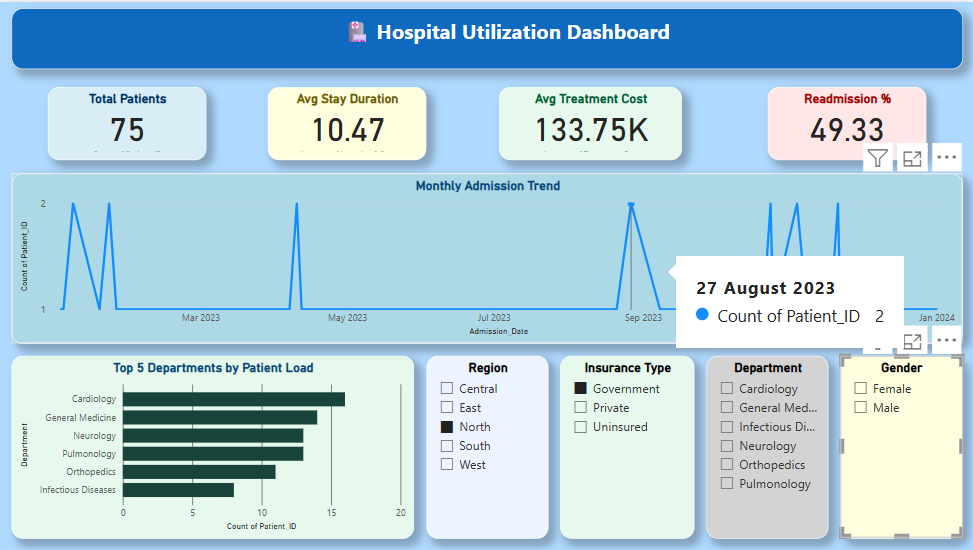

The page's visual inventory and layout, read from the dashboard file:
{"tool":"powerbi","page":{"name":"Page 1","canvas":[1280,720],"ordinal":0},"visuals":[{"type":"textbox","box":[16,8,1248,80],"z":0},{"type":"card","title":"Total Patients ","fields":{"Values":["CountNonNull(Sheet1.Patient_ID)"]},"box":[64,112,208,96],"z":1000},{"type":"card","title":"Readmission %","fields":{"Values":["Sheet1.Readmission_Rate"]},"box":[1008,112,208,96],"z":2000},{"type":"card","title":"Avg Stay Duration","fields":{"Values":["Avg(Sheet1.Length_of_Stay)"]},"box":[352,112,208,96],"z":3000},{"type":"clusteredBarChart","title":"Top 5 Departments by Patient Load","fields":{"Category":["Sheet1.Department"],"Y":["CountNonNull(Sheet1.Patient_ID)"]},"box":[16,464,528,240],"z":4000},{"type":"lineChart","title":"Monthly Admission Trend","fields":{"Category":["Sheet1.Admission_Date"],"Y":["CountNonNull(Sheet1.Patient_ID)"]},"box":[16,224,1248,224],"z":5000},{"type":"slicer","title":"Gender","fields":{"Values":["Sheet1.Gender"]},"box":[1104,464,160,240],"z":7000},{"type":"slicer","title":"Region","fields":{"Values":["Sheet1.Region"]},"box":[560,464,160,240],"z":8000},{"type":"slicer","title":"Department","fields":{"Values":["Sheet1.Department"]},"box":[928,464,160,240],"z":9000},{"type":"slicer","title":"Insurance Type","fields":{"Values":["Sheet1.Insurance_Type"]},"box":[736,464,176,240],"z":10000},{"type":"card","title":"Avg Treatment Cost ","fields":{"Values":["Avg(Sheet1.Treatment_Cost)"]},"box":[656,112,240,96],"z":11000}]}

Visuals, with their boxes in screenshot pixels (x1, y1, x2, y2), scaled from the page's 1280x720 canvas onto the 973x550 screenshot:
textbox: pyautogui.locateOnScreen(12, 6, 961, 67)
"Total Patients " card: pyautogui.locateOnScreen(49, 86, 207, 159)
"Readmission %" card: pyautogui.locateOnScreen(766, 86, 924, 159)
"Avg Stay Duration" card: pyautogui.locateOnScreen(268, 86, 426, 159)
"Top 5 Departments by Patient Load" clusteredBarChart: pyautogui.locateOnScreen(12, 354, 414, 538)
"Monthly Admission Trend" lineChart: pyautogui.locateOnScreen(12, 171, 961, 342)
"Gender" slicer: pyautogui.locateOnScreen(839, 354, 961, 538)
"Region" slicer: pyautogui.locateOnScreen(426, 354, 547, 538)
"Department" slicer: pyautogui.locateOnScreen(705, 354, 827, 538)
"Insurance Type" slicer: pyautogui.locateOnScreen(559, 354, 693, 538)
"Avg Treatment Cost " card: pyautogui.locateOnScreen(499, 86, 681, 159)
